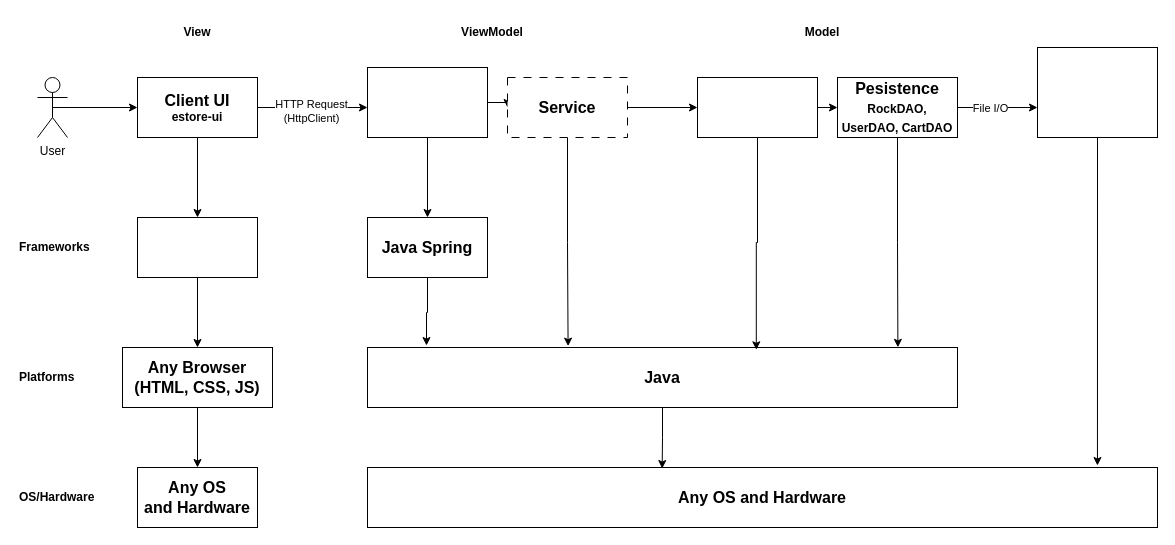
The diagram is 1175 pixels wide and 545 high, and some of its shapes have lost their labels. Here are the shapes that lost their labels. From the top down, the centre of each, then its label:
the point at 427,102: REST API RockController, UserController, CartController
the point at 757,107: Model Rock, User, Cart
the point at 1097,92: Storage RockFileDAO, UserFileDAO, CartFileDAO
the point at 197,247: Angular, TypeScript
